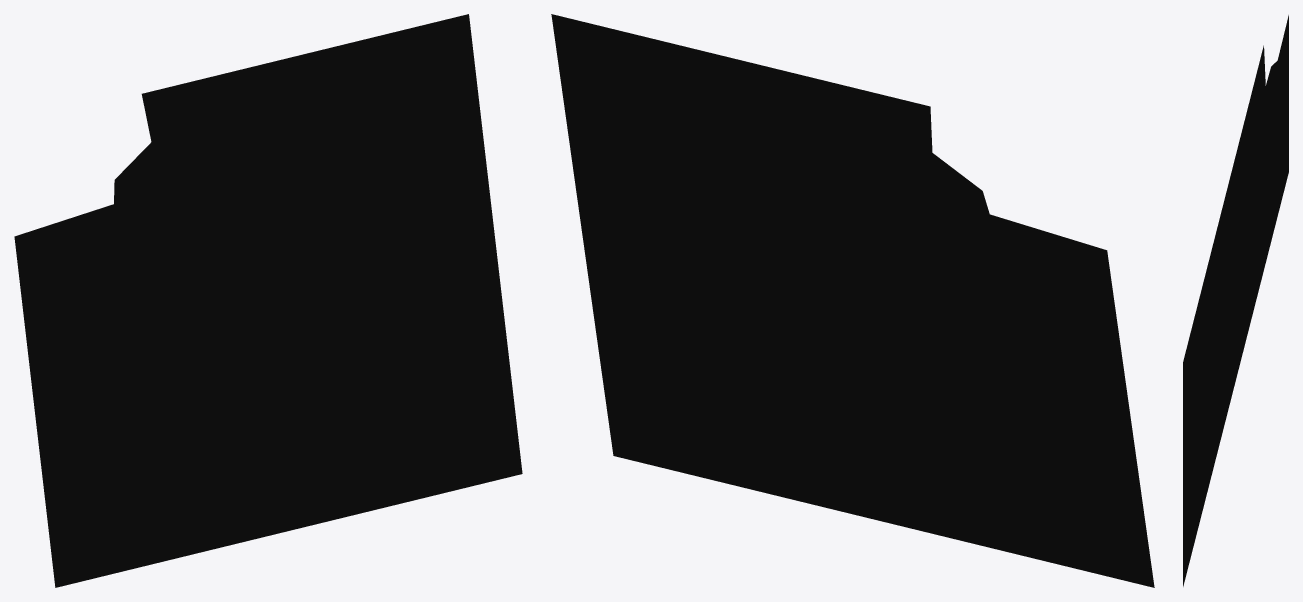
The picture shows the model from 3 angles, left to right: view 1: azimuth 30°, elevation 25°; view 2: azimuth 150°, elevation 25°; view 3: azimuth 270°, elevation 25°; orthographic projection. The views are drawn at different scales.
Visible parts, largest first — view 1: 5; view 2: 5; view 3: 5.
Part boxes in pixels (x1=…): 5: x1=14, y1=14, x2=522, y2=587; 5: x1=551, y1=14, x2=1154, y2=587; 5: x1=1183, y1=15, x2=1288, y2=586.
Size of the model in its own units: 6581 by 5664 by 1308.
Materials: 1 (1 with a texture image).
